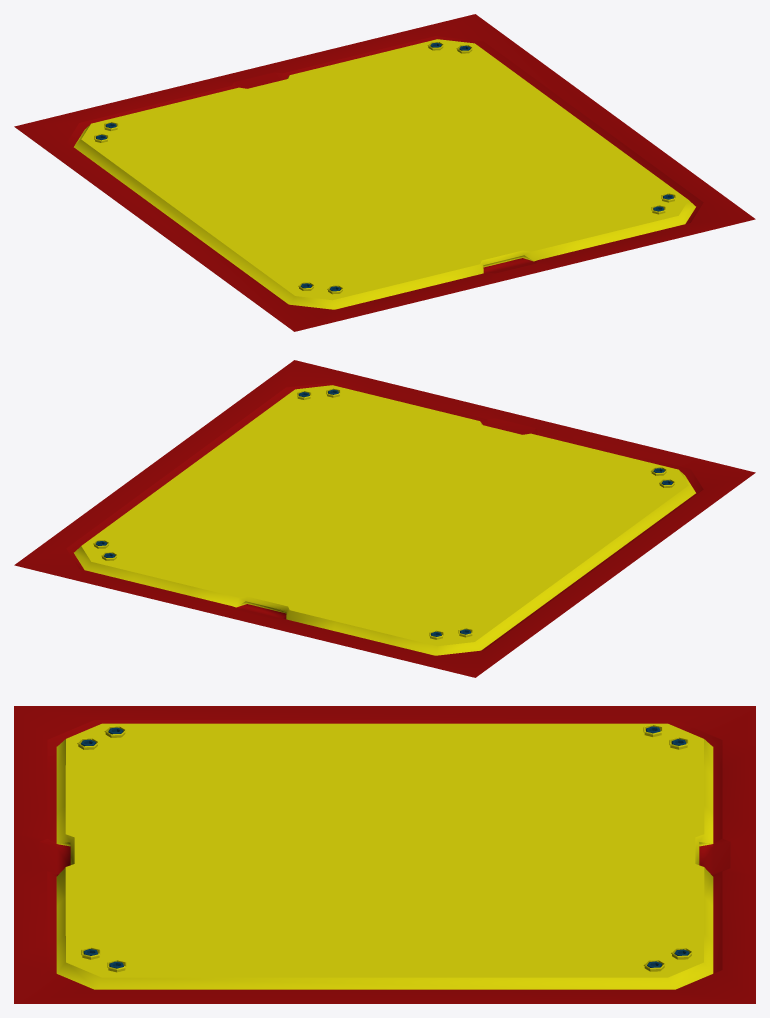
File: Panel_Basic_Hi.FBX
3 renders of one model, top to bottom at view 1: azimuth 30°, elevation 25°; view 2: azimuth 150°, elevation 25°; view 3: azimuth 270°, elevation 25°, orthographic. The views are drawn at different scales.
Visible parts, largest first — view 1: Basic_Panel_High; view 2: Basic_Panel_High; view 3: Basic_Panel_High.
Part boxes in pixels (x1,y1,x2,y2): Basic_Panel_High: (14, 14, 755, 331); Basic_Panel_High: (14, 360, 755, 677); Basic_Panel_High: (14, 706, 755, 1003).
Bounding box in the file's own units: 380 × 8.11 × 400.
